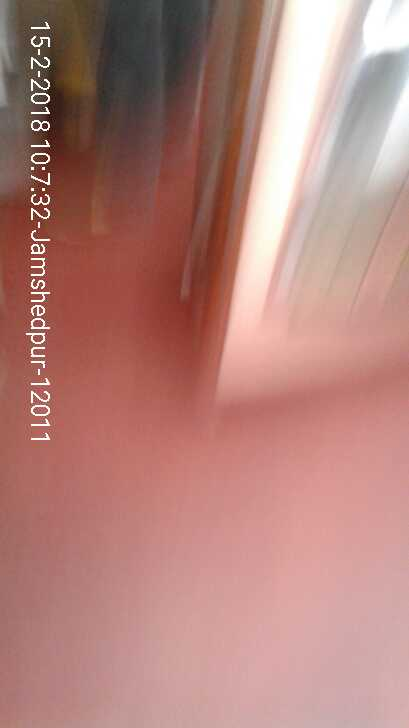reject: (109, 151, 233, 253)
